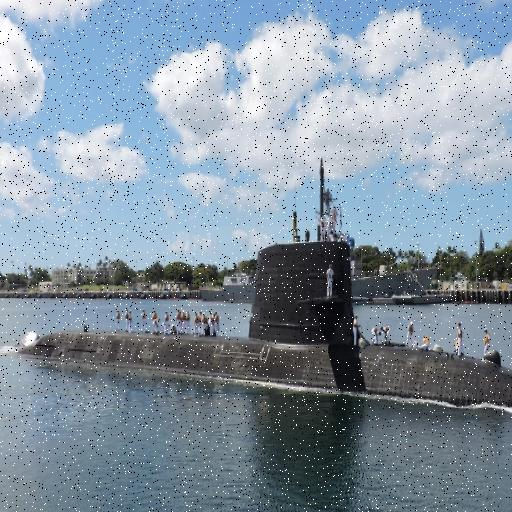submarine: (1, 145, 512, 417)
